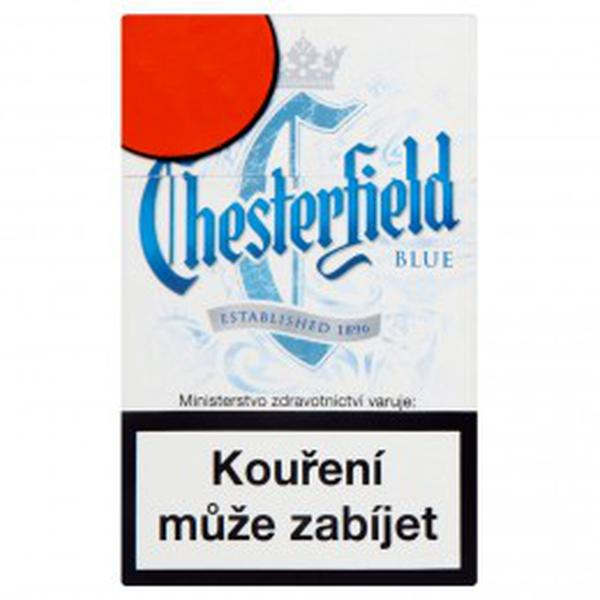chesterfield_blue: (123, 16, 478, 584)
